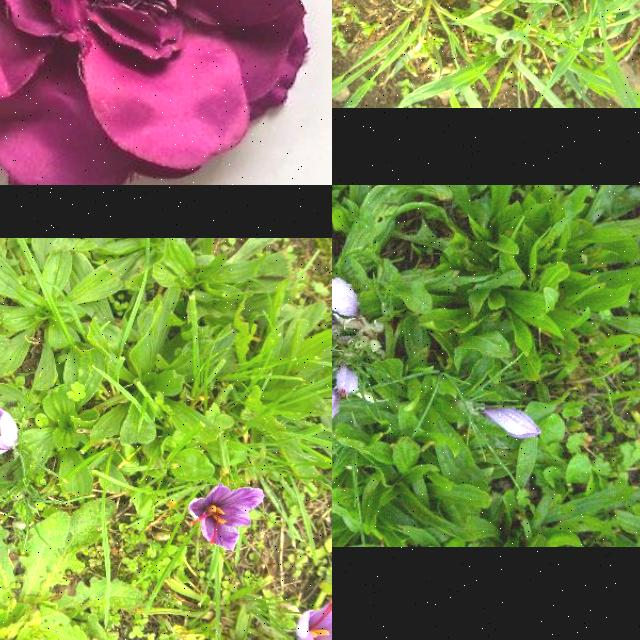flower: (188, 485, 264, 553), (486, 407, 544, 439), (297, 597, 332, 640), (332, 278, 361, 317), (0, 395, 18, 456), (336, 366, 359, 398)
